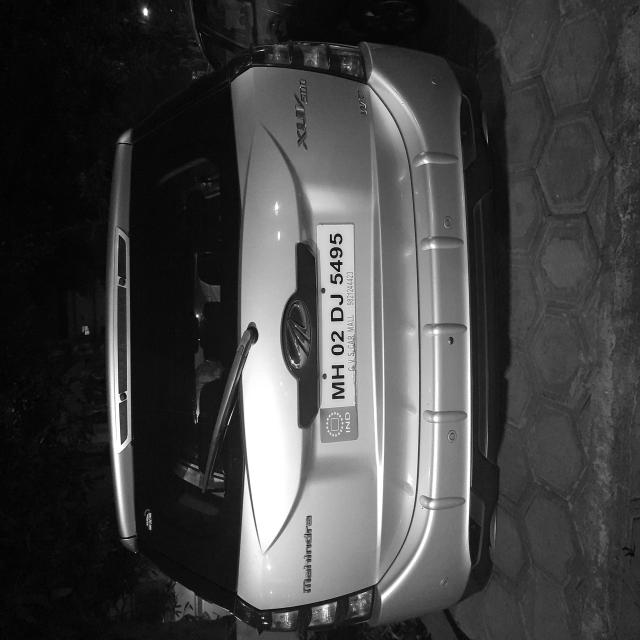car: (3, 130, 451, 640)
license-plate: (147, 427, 315, 480)
